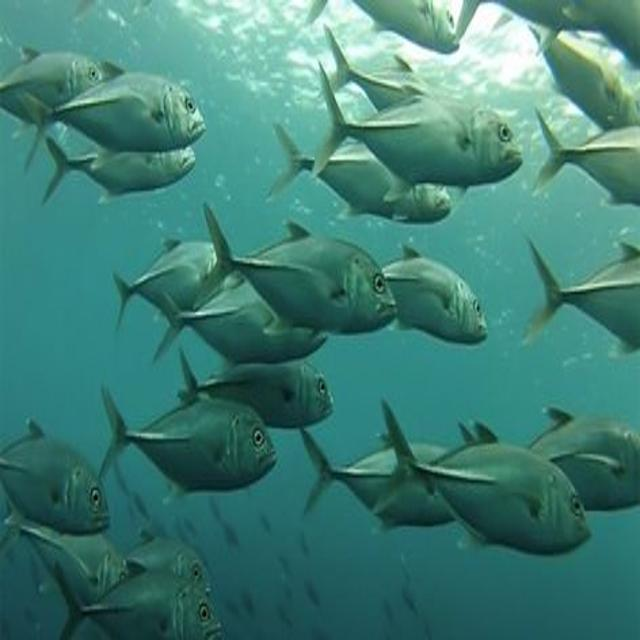fish: (382, 393, 592, 559), (320, 65, 526, 201), (199, 199, 398, 333), (90, 396, 284, 494), (18, 72, 209, 171), (276, 124, 451, 226), (305, 429, 474, 528), (0, 411, 117, 535), (174, 345, 343, 429), (159, 281, 330, 364), (523, 233, 640, 354), (45, 566, 228, 640), (372, 240, 489, 346), (525, 404, 640, 510), (482, 0, 639, 74), (36, 137, 198, 207), (528, 25, 639, 127), (325, 25, 451, 113), (535, 106, 640, 208), (110, 237, 221, 329), (0, 44, 107, 132), (306, 0, 460, 52), (110, 529, 213, 594)
